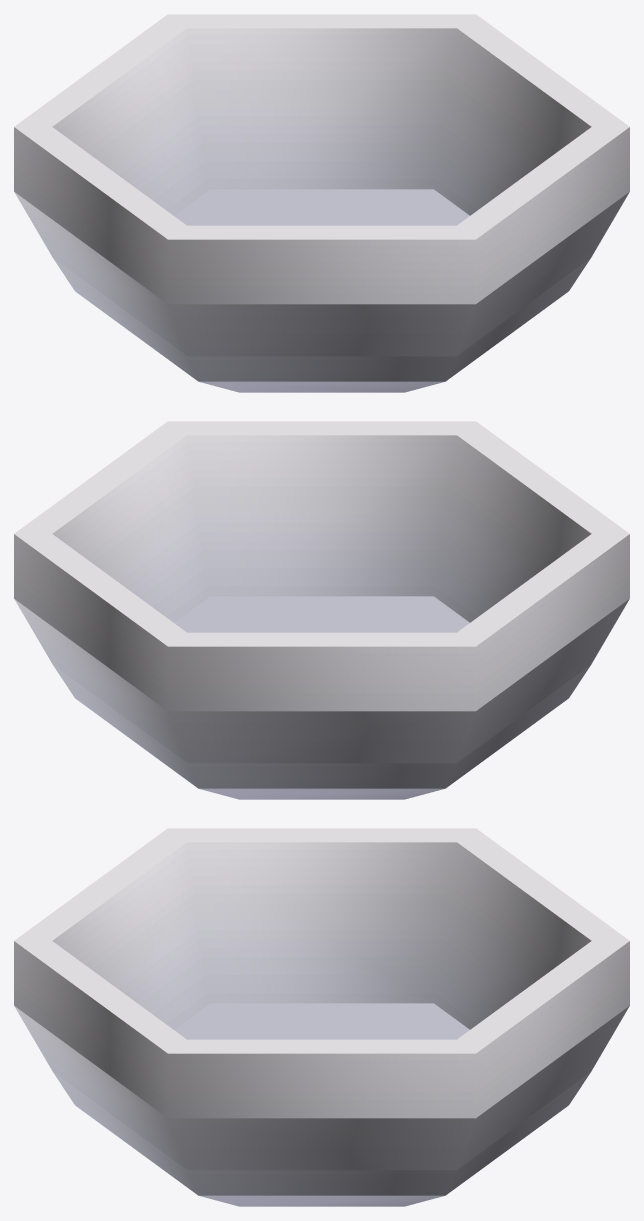
File: bowl.951d746658.glb
3 renders of one model, top to bottom at view 1: azimuth 30°, elevation 25°; view 2: azimuth 150°, elevation 25°; view 3: azimuth 270°, elevation 25°, orthographic.
Parts seen in each view (by area): view 1: bowl; view 2: bowl; view 3: bowl.
Part boxes in pixels (left/top/right/bottom): bowl: left=14, top=14, right=629, bottom=392; bowl: left=14, top=421, right=629, bottom=799; bowl: left=14, top=828, right=629, bottom=1206.
Bounding box in the file's own units: 0.5022 × 0.2139 × 0.5798.
Materials: 1 (1 with a texture image).
